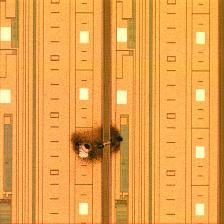PARTICLE: (69, 121, 127, 169)
